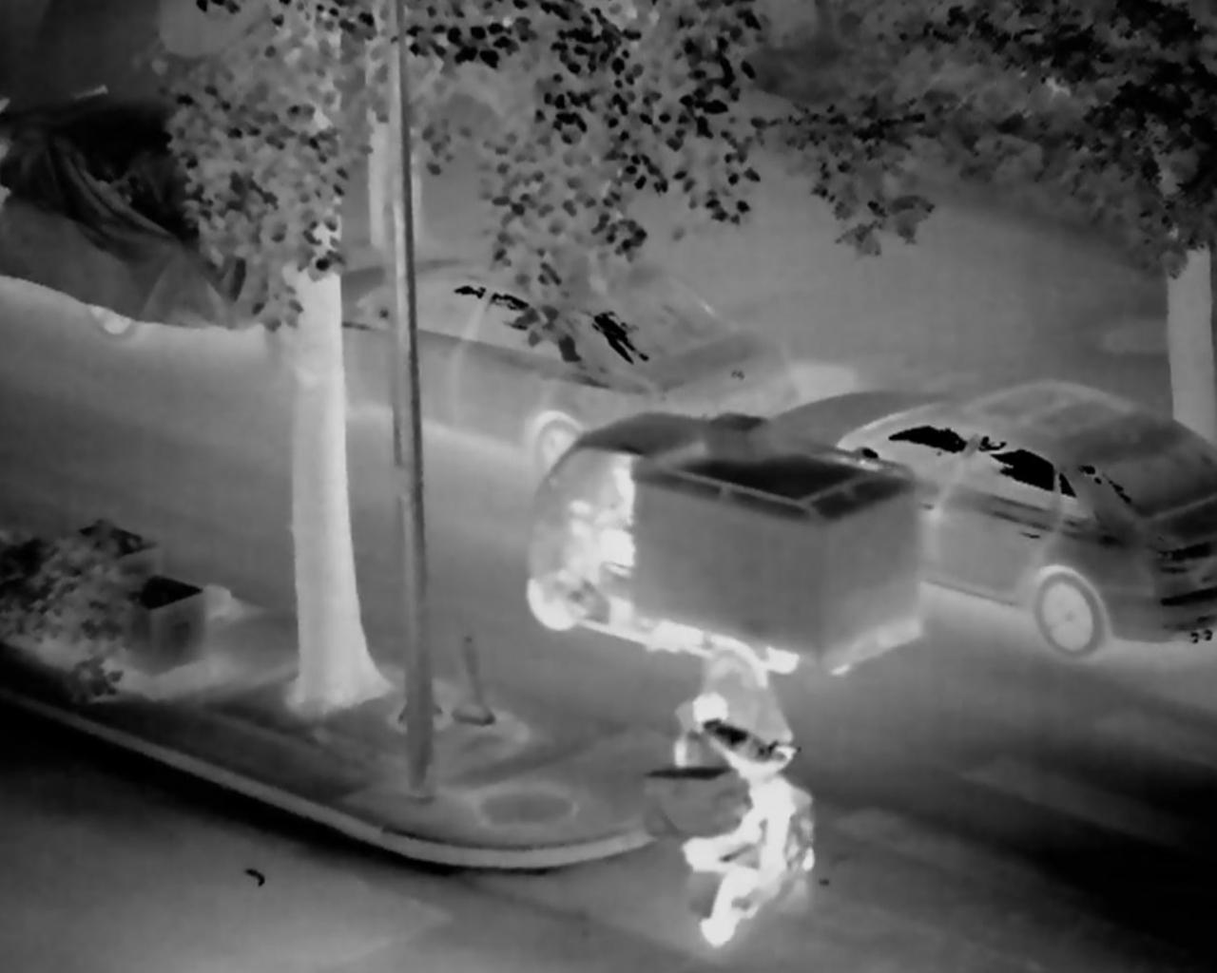person: (655, 650, 818, 938), (547, 449, 632, 597)
